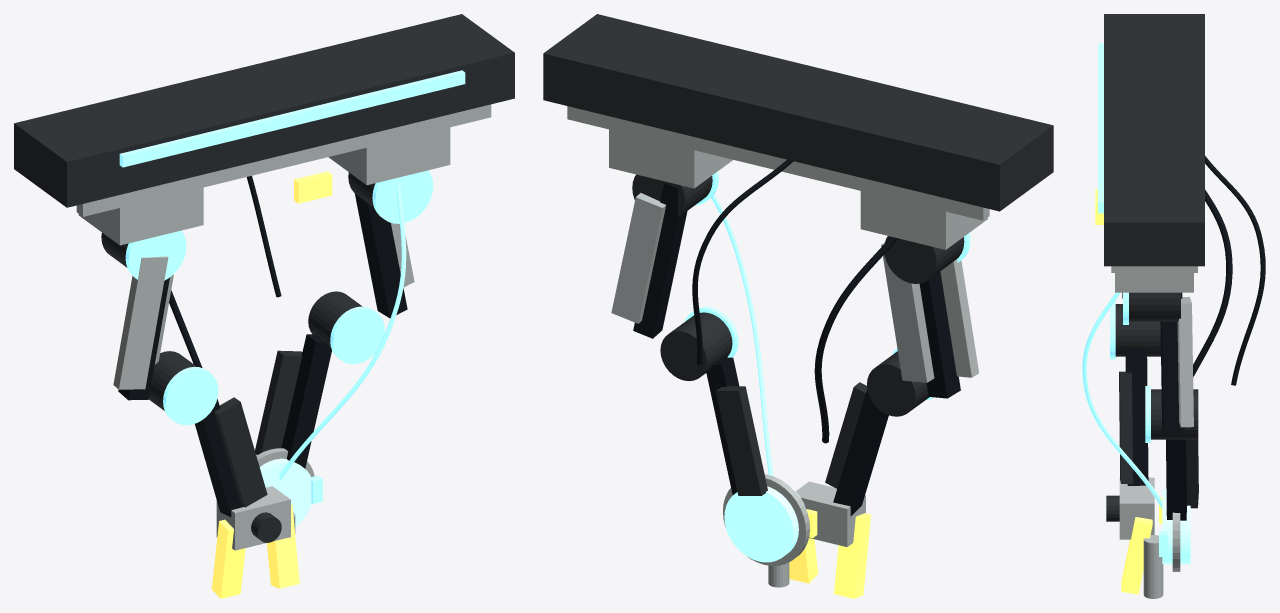
The model's file is hp_hero_maintenance_repair_arm_cluster.glb.
3 renders of one model, left to right at view 1: azimuth 30°, elevation 25°; view 2: azimuth 150°, elevation 25°; view 3: azimuth 270°, elevation 25°, orthographic. The views are drawn at different scales.
Visible parts, largest first — view 1: arm_bundle_black_cable, clamp_elbow_blue_bearing, clamp_left_jaw, scanner_cyan_lens_large; view 2: arm_bundle_black_cable, scanner_cyan_lens_large, clamp_left_jaw, clamp_elbow_blue_bearing; view 3: arm_bundle_black_cable, clamp_elbow_blue_bearing, clamp_left_jaw, scanner_cyan_lens_large.
Boxes of the visible parts, <box> form: arm_bundle_black_cable: <box>14,14,514,550</box>; clamp_elbow_blue_bearing: <box>119,70,465,503</box>; clamp_left_jaw: <box>211,171,332,598</box>; scanner_cyan_lens_large: <box>259,458,312,526</box>; arm_bundle_black_cable: <box>543,14,1053,587</box>; scanner_cyan_lens_large: <box>724,486,804,562</box>; clamp_left_jaw: <box>789,509,870,598</box>; clamp_elbow_blue_bearing: <box>684,171,970,476</box>; arm_bundle_black_cable: <box>1104,14,1265,598</box>; clamp_elbow_blue_bearing: <box>1082,43,1167,556</box>; clamp_left_jaw: <box>1095,189,1162,594</box>; scanner_cyan_lens_large: <box>1162,490,1190,564</box>.
Bounding box in the file's own units: 2.25 × 2.35 × 0.8367.
Materials: 4 (4 with a texture image).
